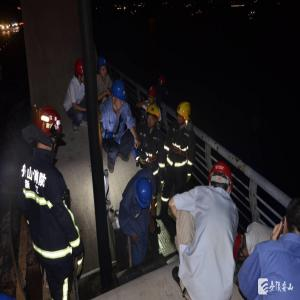blue: (134, 177, 154, 210), (112, 81, 128, 109), (98, 57, 109, 79)
red: (35, 108, 63, 155), (209, 163, 233, 196), (233, 229, 251, 263), (76, 60, 86, 84), (148, 86, 159, 105)
yellow: (147, 104, 161, 129), (178, 102, 192, 126)
